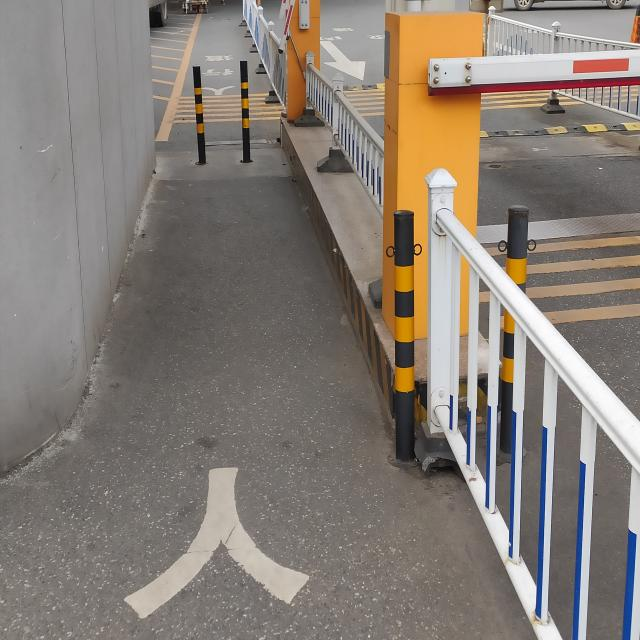reflective_cone: (628, 2, 640, 44)
warning_column: (498, 202, 540, 465), (386, 209, 426, 460), (236, 59, 256, 164), (192, 64, 210, 165)
